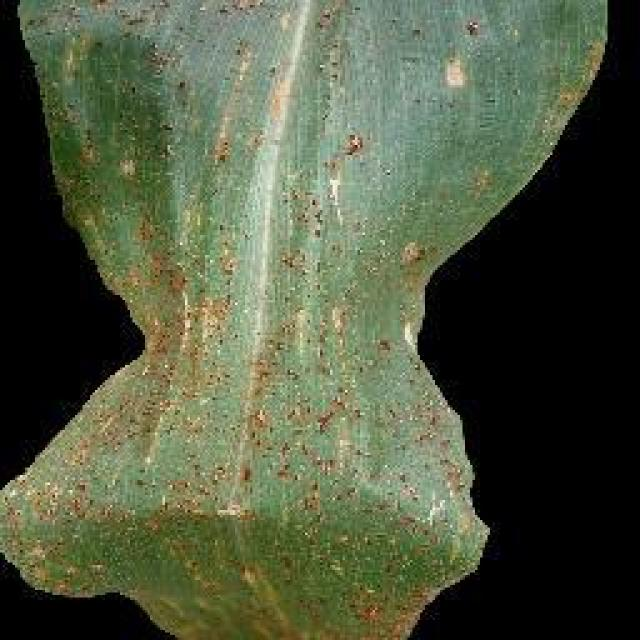Corn Common Rust: (111, 55, 442, 608)
